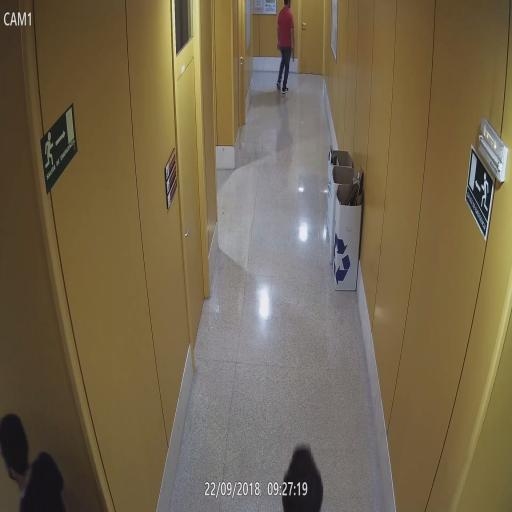Handgun: (290, 44, 296, 62)
